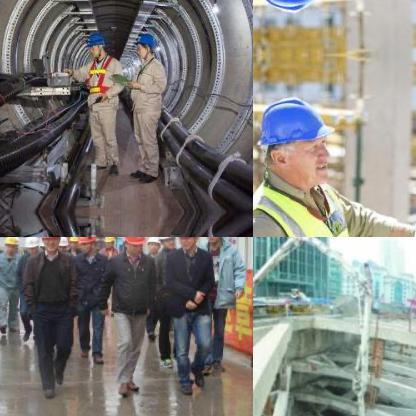Helmet: (253, 85, 340, 191), (253, 0, 341, 22), (134, 26, 156, 58), (84, 28, 108, 57), (121, 237, 147, 256), (21, 237, 40, 259), (38, 237, 62, 254), (175, 237, 200, 250), (79, 237, 98, 254), (2, 237, 18, 257), (145, 237, 160, 256), (158, 237, 175, 251), (102, 237, 117, 252), (203, 237, 224, 247), (67, 237, 79, 252)
